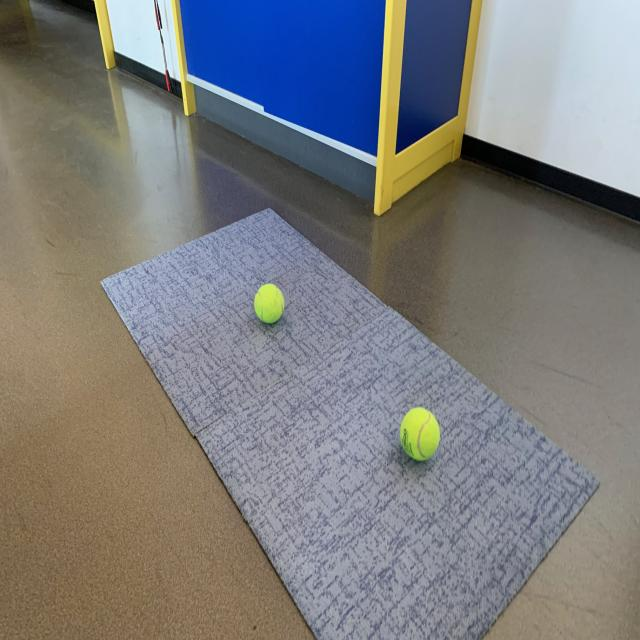Tennis-Ball: (396, 405, 444, 467), (254, 280, 287, 325)
